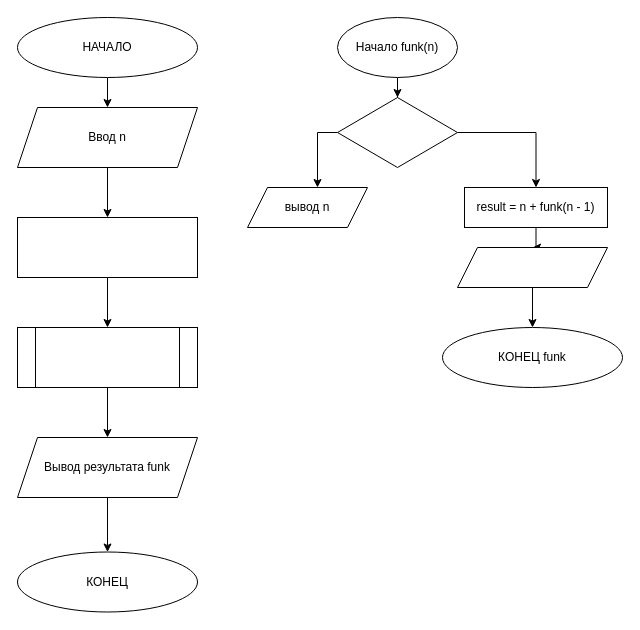
Some shapes in this 640 by 630 pixel diagram are drawn without their labels. Here are the shapes that lost their labels. From the top down, the centre of each, then its label:
At point (397, 132): "n == 1?".
At point (107, 247): "part1 = n * (n + 1) / 2".
At point (532, 267): "вывод result".
At point (107, 357): "funk(n)".
